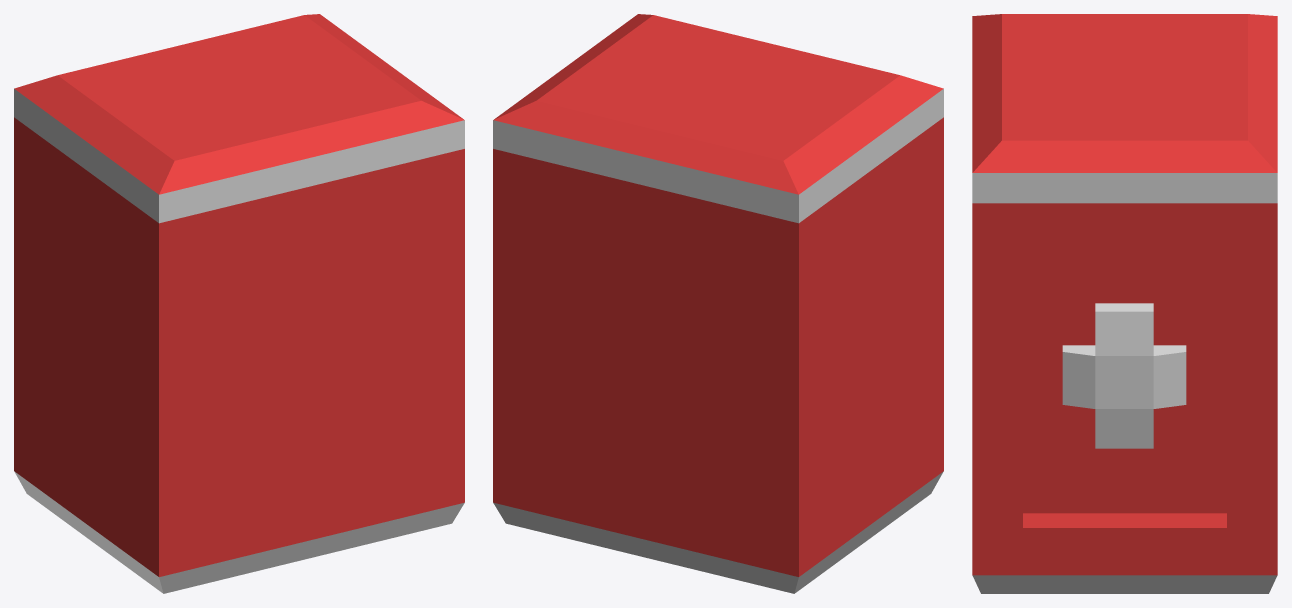
Rendered from Stimpack.fbx.
The picture shows the model from 3 angles, left to right: view 1: azimuth 30°, elevation 25°; view 2: azimuth 150°, elevation 25°; view 3: azimuth 270°, elevation 25°; orthographic projection. The views are drawn at different scales.
Parts seen in each view (by area): view 1: Cube; view 2: Cube; view 3: Cube.
Boxes of the visible parts, x1,y1,x2,y2 form: Cube: [14, 14, 464, 593]; Cube: [493, 14, 943, 593]; Cube: [972, 14, 1277, 593].
Size of the model in its own units: 45.3 by 59.56 by 37.21.
